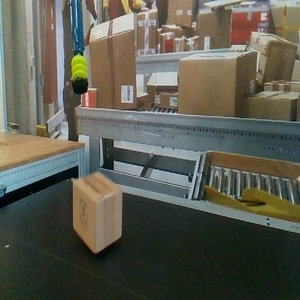box: (72, 170, 124, 254)
